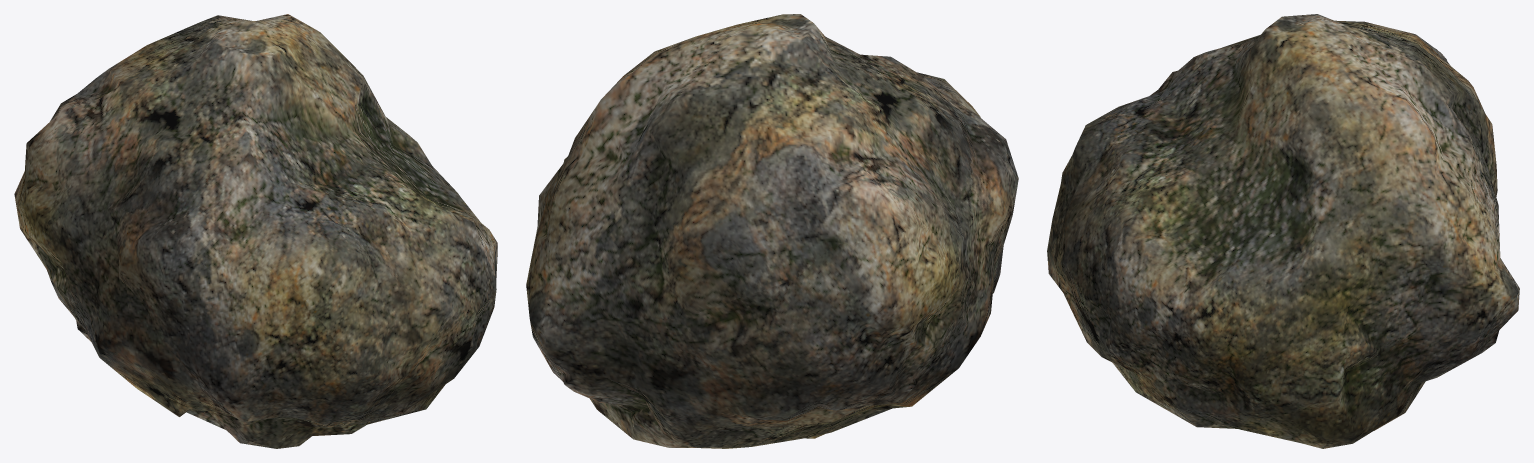
The model's file is Rock02.fbx.
3 renders of one model, left to right at view 1: azimuth 30°, elevation 25°; view 2: azimuth 150°, elevation 25°; view 3: azimuth 270°, elevation 25°, orthographic. The views are drawn at different scales.
Parts seen in each view (by area): view 1: CoralRock2; view 2: CoralRock2; view 3: CoralRock2.
Boxes of the visible parts, x1,y1,x2,y2 form: CoralRock2: [14, 14, 497, 448]; CoralRock2: [526, 14, 1018, 448]; CoralRock2: [1047, 14, 1519, 448].
Bounding box in the file's own units: 141 × 137 × 156.
